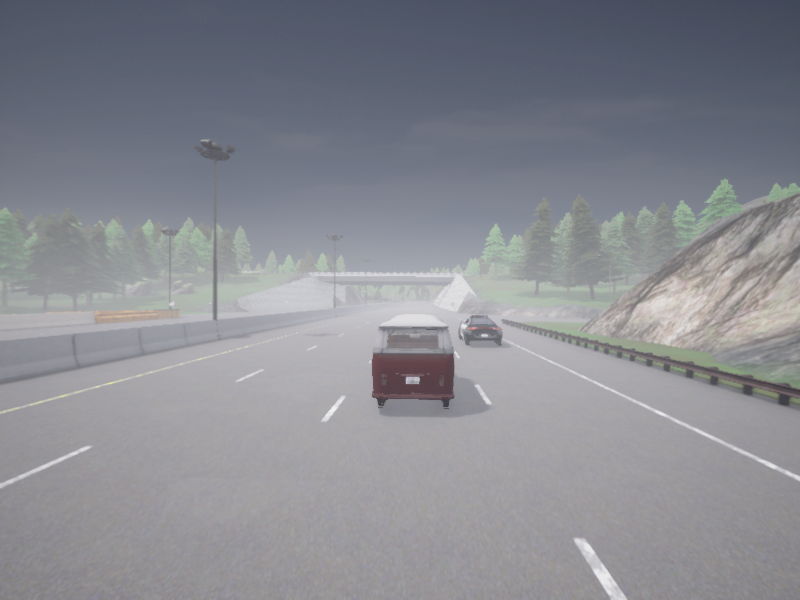vehicle: (371, 314, 454, 407), (459, 315, 502, 344)
